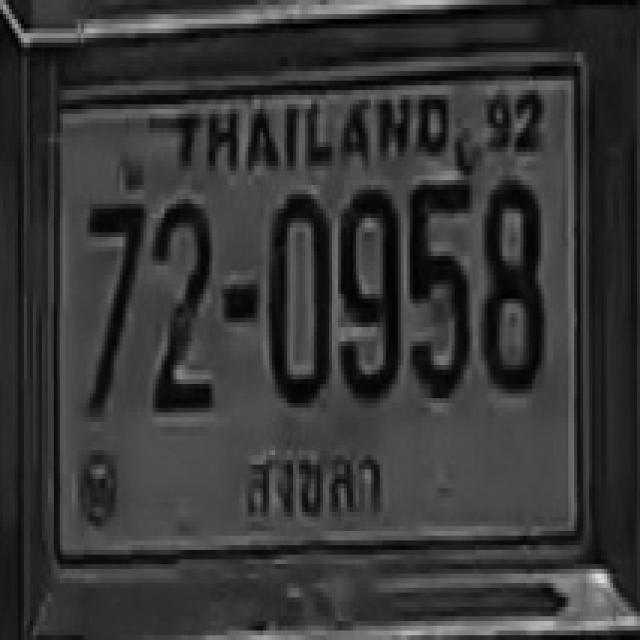0: (268, 190, 328, 403)
2: (150, 197, 210, 410)
5: (406, 175, 469, 394)
7: (85, 199, 142, 413)
8: (482, 175, 542, 389)
9: (338, 185, 398, 398)
Songkhla: (240, 430, 390, 533)
